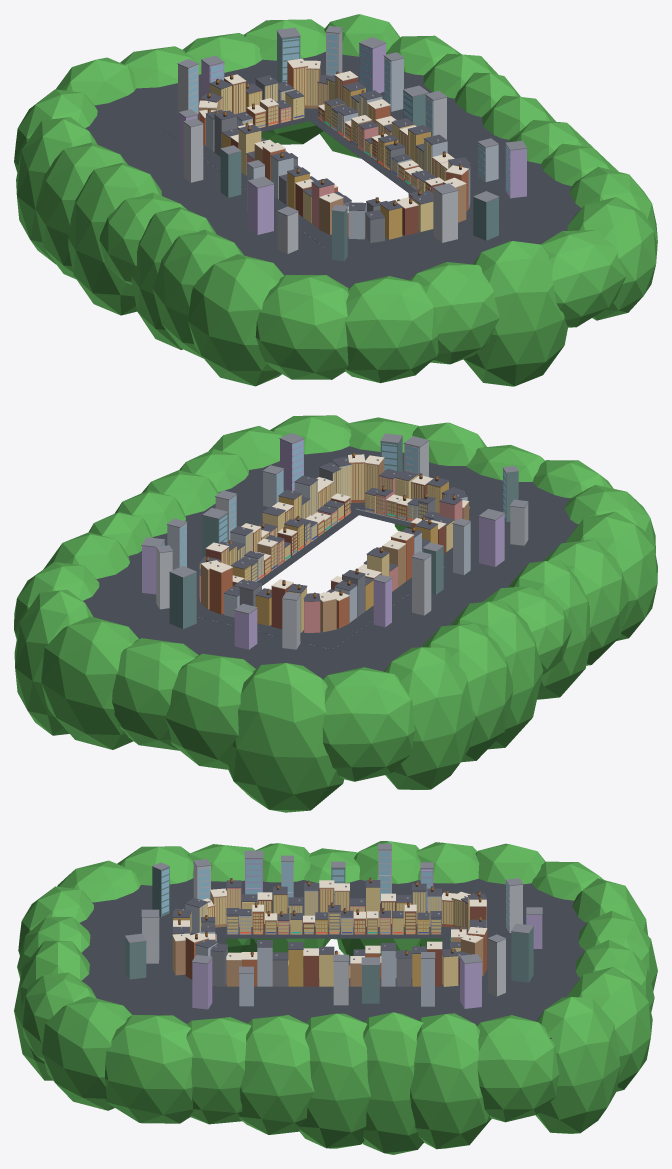
File: CatCafe_Alleyway_Backdrop.glb
3 views of the same model, one above another, from view 1: azimuth 30°, elevation 25°; view 2: azimuth 150°, elevation 25°; view 3: azimuth 270°, elevation 25° (orthographic). The views are drawn at different scales.
Visible parts, largest first — view 1: CatCafe_Alleyway_Backdrop_HillsFar, CatCafe_Alleyway_Backdrop, CatCafe_Alleyway_Backdrop_Ground, CatCafe_Alleyway_Backdrop_Bulbs, CatCafe_Alleyway_Backdrop_Road; view 2: CatCafe_Alleyway_Backdrop_HillsFar, CatCafe_Alleyway_Backdrop, CatCafe_Alleyway_Backdrop_Ground, CatCafe_Alleyway_Backdrop_Bulbs, CatCafe_Alleyway_Backdrop_Road; view 3: CatCafe_Alleyway_Backdrop_HillsFar, CatCafe_Alleyway_Backdrop, CatCafe_Alleyway_Backdrop_Ground, CatCafe_Alleyway_Backdrop_Bulbs, CatCafe_Alleyway_Backdrop_Road.
Part boxes in pixels (x1,y1,x2,y2): CatCafe_Alleyway_Backdrop_HillsFar: (14, 14, 657, 386); CatCafe_Alleyway_Backdrop: (177, 26, 527, 261); CatCafe_Alleyway_Backdrop_Ground: (85, 51, 581, 288); CatCafe_Alleyway_Backdrop_Bulbs: (189, 34, 509, 194); CatCafe_Alleyway_Backdrop_Road: (159, 108, 509, 253); CatCafe_Alleyway_Backdrop_HillsFar: (14, 415, 657, 812); CatCafe_Alleyway_Backdrop: (141, 433, 528, 649); CatCafe_Alleyway_Backdrop_Ground: (83, 446, 578, 679); CatCafe_Alleyway_Backdrop_Bulbs: (162, 441, 505, 581); CatCafe_Alleyway_Backdrop_Road: (165, 499, 506, 649); CatCafe_Alleyway_Backdrop_HillsFar: (14, 841, 657, 1154); CatCafe_Alleyway_Backdrop: (125, 843, 542, 1009); CatCafe_Alleyway_Backdrop_Ground: (80, 878, 586, 1038); CatCafe_Alleyway_Backdrop_Bulbs: (159, 851, 526, 959); CatCafe_Alleyway_Backdrop_Road: (166, 913, 502, 993).
Size of the model in its own units: 667 by 246 by 847.
Materials: 1 (1 with a texture image).
